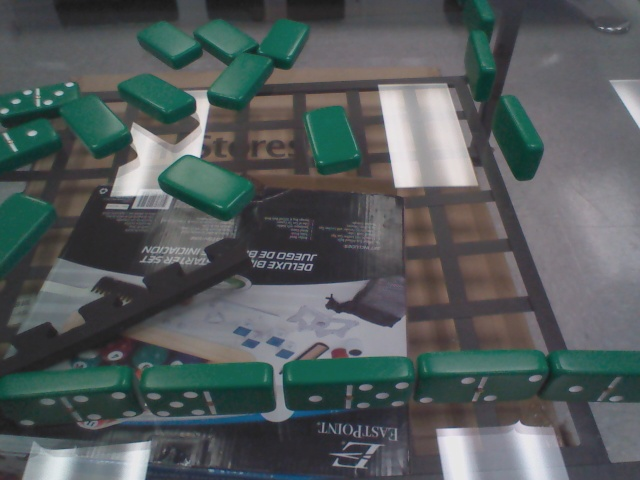A: (154, 149, 266, 223), (293, 100, 361, 180), (58, 90, 136, 158), (113, 67, 200, 127), (205, 50, 278, 116), (2, 194, 56, 273), (135, 16, 202, 67), (190, 14, 256, 59), (255, 18, 312, 69)
B: (1, 80, 76, 125), (1, 122, 58, 177)
D: (486, 91, 545, 193), (450, 34, 503, 105), (451, 2, 507, 41)
E: (143, 361, 283, 421), (2, 367, 143, 426), (283, 354, 415, 414), (416, 346, 548, 404), (550, 345, 640, 416)
